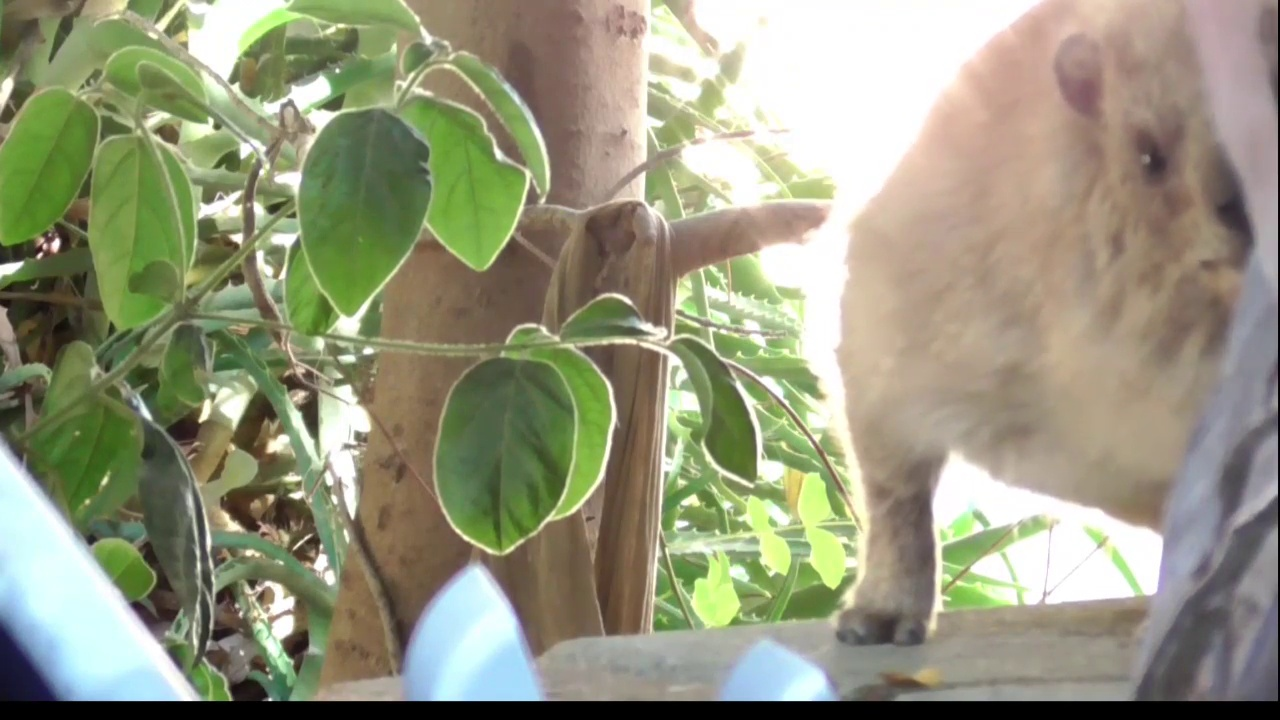Rock Hyrex: (832, 1, 1255, 650)
